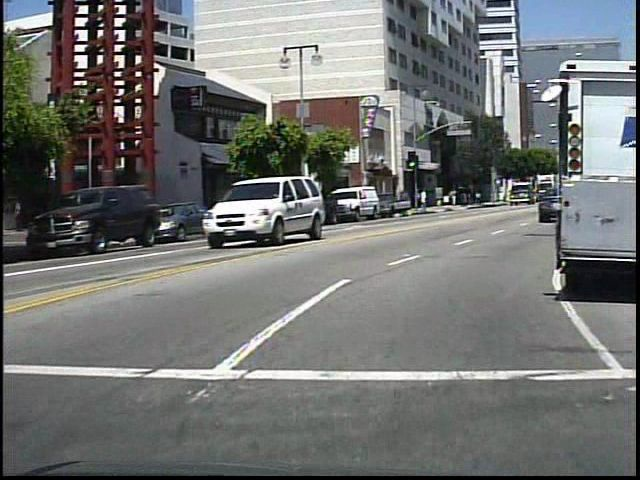person: (418, 187, 433, 215)
